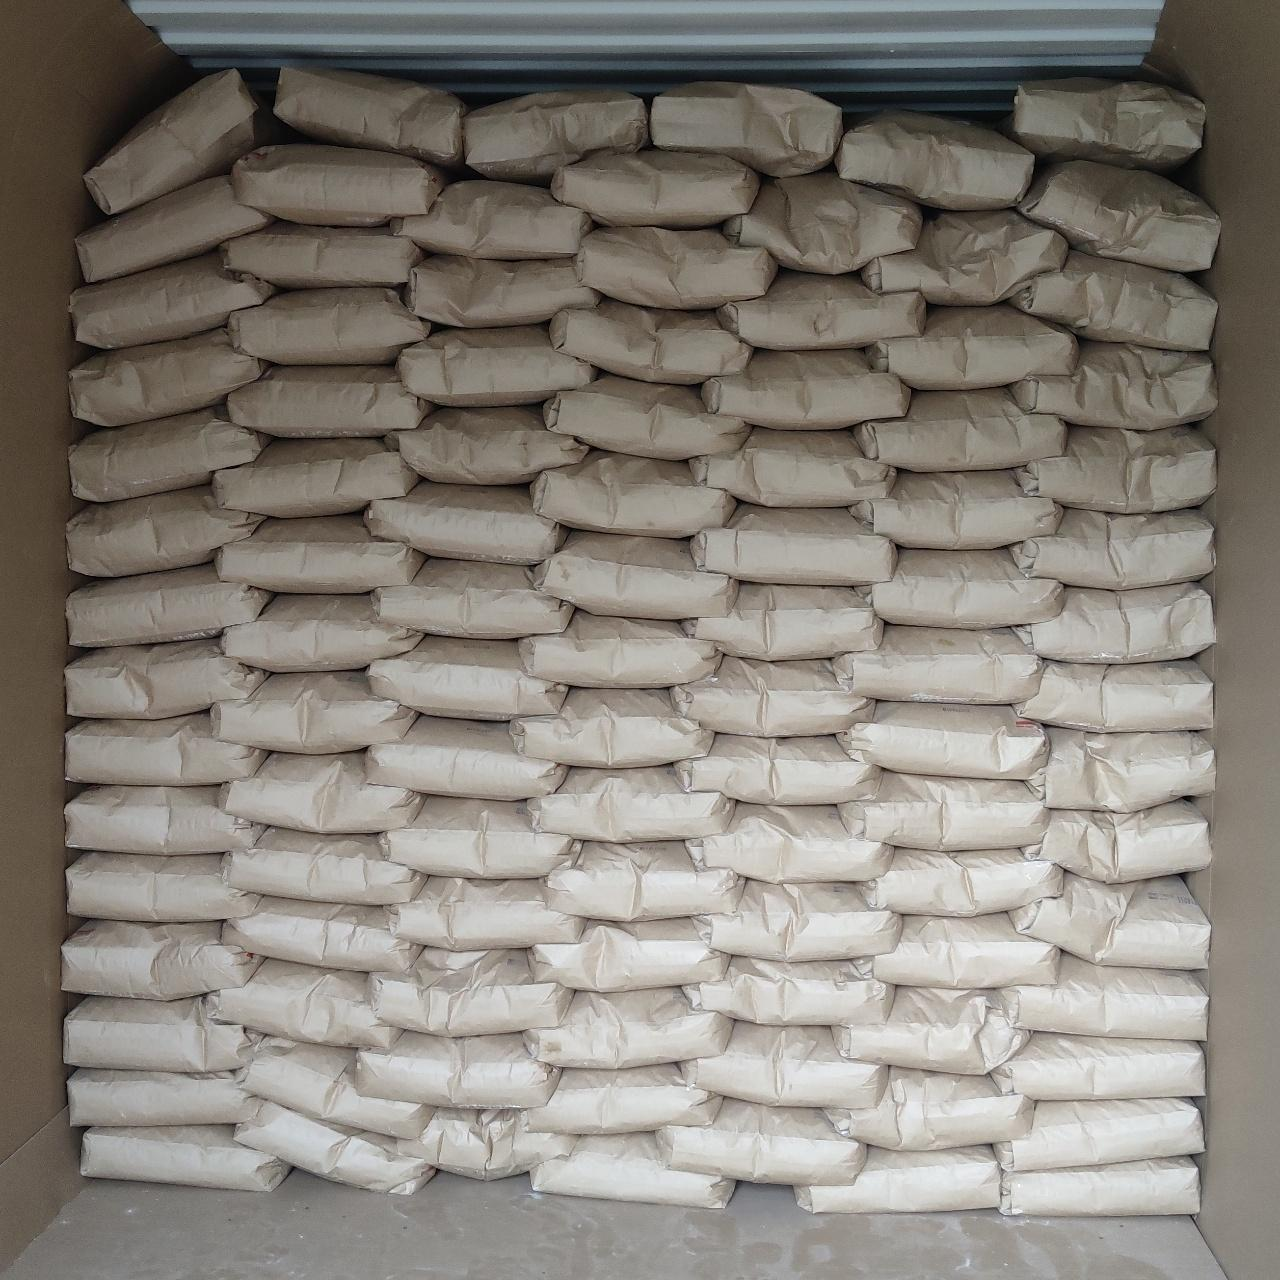sack: (86, 70, 290, 212), (1017, 162, 1218, 270), (1008, 252, 1214, 350), (76, 176, 270, 278), (72, 252, 275, 346), (70, 406, 270, 501), (862, 210, 1065, 302), (724, 172, 918, 270), (275, 66, 462, 166), (236, 1039, 430, 1133), (70, 328, 266, 422), (1010, 872, 1206, 966), (836, 113, 1030, 206), (680, 1022, 886, 1107), (1000, 954, 1206, 1039), (1012, 342, 1214, 428), (544, 374, 748, 458), (68, 486, 264, 574), (1008, 80, 1204, 168), (236, 1102, 430, 1190), (370, 948, 570, 1034), (532, 450, 734, 535), (870, 306, 1076, 388), (658, 1099, 862, 1182), (1016, 425, 1214, 510), (536, 532, 734, 617), (464, 90, 646, 182), (652, 84, 838, 173), (68, 564, 270, 646), (855, 390, 1062, 470), (232, 144, 445, 222), (550, 300, 750, 382), (207, 960, 399, 1046), (826, 1068, 1030, 1148), (368, 716, 566, 798), (856, 550, 1062, 628), (850, 472, 1060, 549), (692, 504, 894, 583), (1012, 510, 1214, 588), (212, 672, 414, 750), (68, 638, 264, 719), (368, 638, 564, 719), (702, 352, 910, 428), (366, 482, 564, 561), (576, 229, 774, 308), (696, 880, 900, 958), (836, 988, 1028, 1070), (1014, 584, 1214, 662), (399, 326, 598, 404), (719, 272, 924, 348), (840, 702, 1046, 778), (835, 626, 1039, 702), (526, 988, 730, 1064), (215, 438, 414, 516), (690, 428, 892, 504), (688, 804, 890, 880), (672, 656, 870, 734), (372, 560, 570, 638), (222, 753, 420, 830), (512, 688, 710, 765), (552, 150, 758, 224), (840, 772, 1046, 846), (356, 1032, 558, 1107), (388, 406, 586, 482), (224, 594, 422, 670), (520, 610, 719, 686), (218, 516, 422, 590), (382, 798, 576, 876), (224, 828, 422, 903), (1028, 728, 1214, 808), (527, 765, 731, 838), (546, 842, 740, 918), (62, 922, 258, 998), (229, 290, 430, 362), (532, 1133, 734, 1206), (394, 181, 590, 254), (685, 584, 880, 658), (1024, 802, 1208, 880), (66, 996, 260, 1070), (866, 914, 1058, 988), (229, 366, 430, 436), (992, 1032, 1204, 1098), (1016, 660, 1212, 731), (224, 898, 416, 971), (998, 1098, 1201, 1166), (386, 878, 583, 948), (676, 736, 878, 804), (66, 714, 266, 782), (532, 920, 726, 990), (406, 256, 598, 326), (68, 787, 263, 855), (685, 958, 890, 1022), (864, 847, 1060, 914), (222, 222, 422, 286), (798, 1148, 998, 1212), (526, 1065, 719, 1132), (82, 1128, 286, 1190), (68, 852, 258, 918), (400, 1110, 574, 1178), (1000, 1158, 1198, 1214), (70, 1068, 258, 1124)
